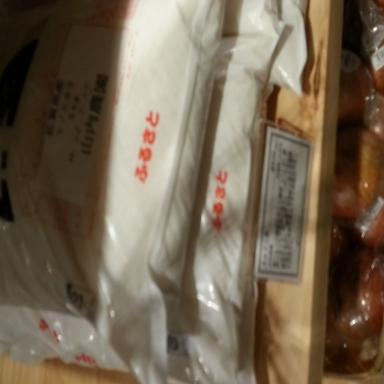plasticbag: (0, 0, 307, 383)
